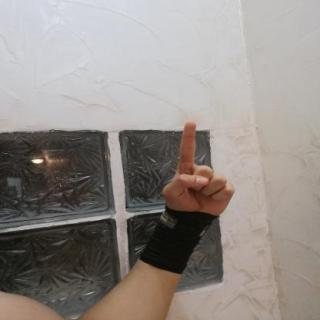BAA: (156, 116, 242, 223)
